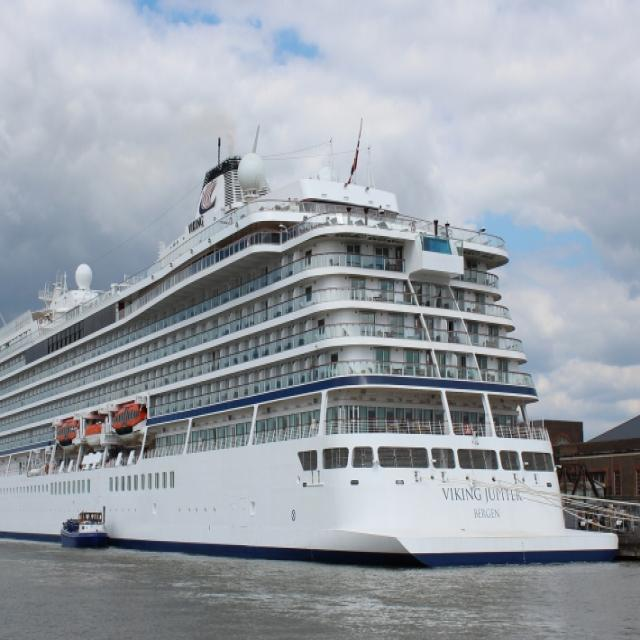cruises: (1, 116, 621, 583)
